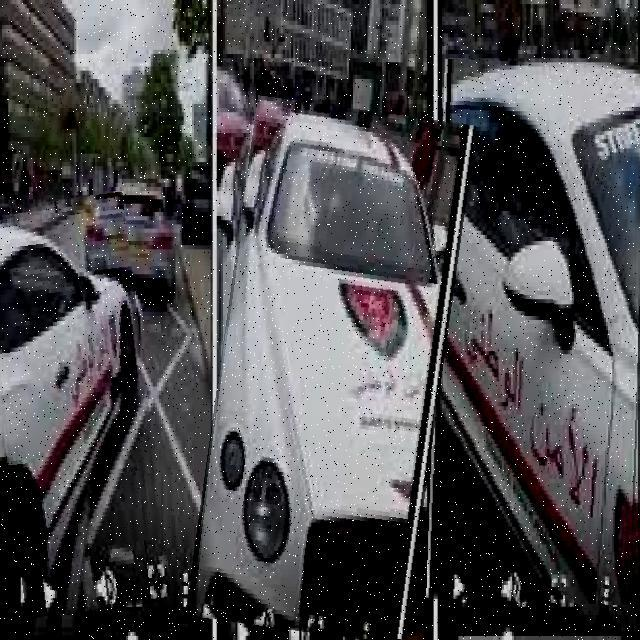police: (202, 102, 458, 639), (430, 60, 640, 603), (0, 195, 159, 614)
